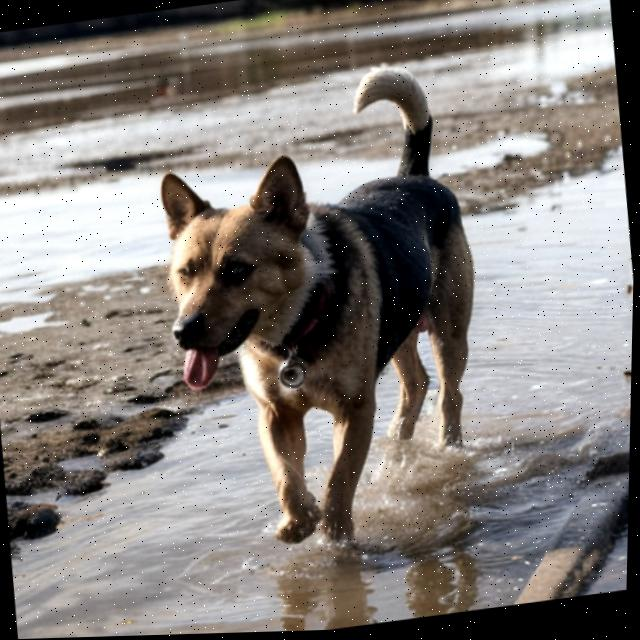dog: (100, 24, 519, 589)
